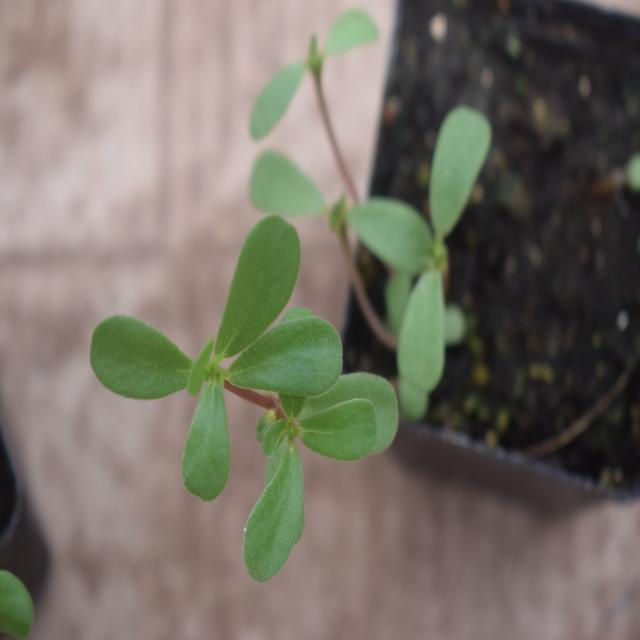purslane: (60, 221, 419, 568)
